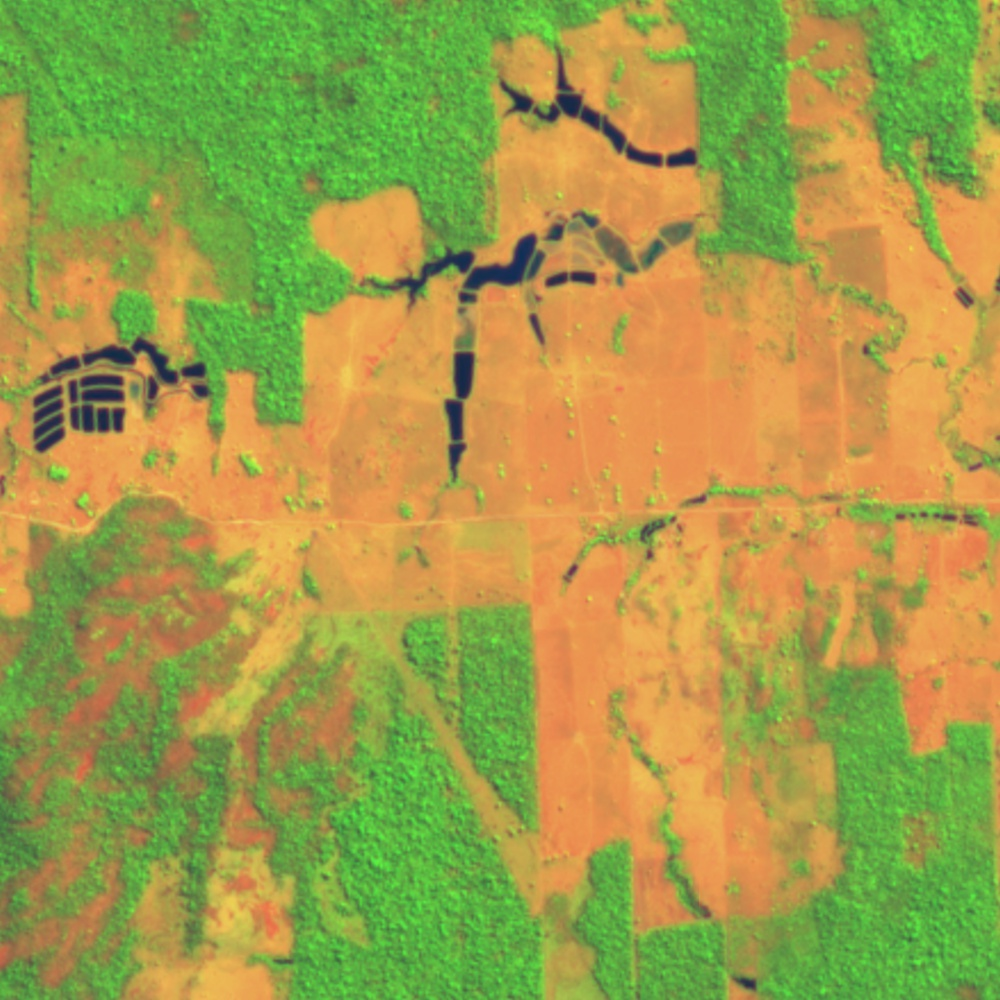illegal: (358, 208, 701, 480), (493, 41, 705, 178), (26, 329, 212, 456), (565, 487, 721, 586), (888, 501, 983, 532), (725, 964, 762, 992), (950, 284, 977, 310)
